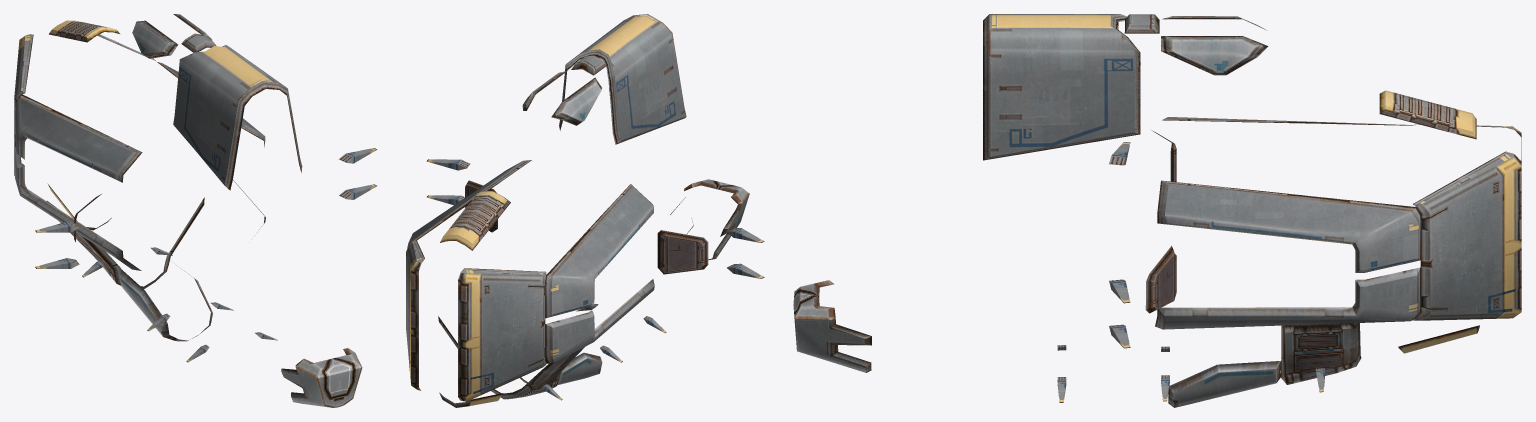
File: yao_assault_frigate_01_t3.glb
3 views of the same model, side by side, from view 1: azimuth 30°, elevation 25°; view 2: azimuth 150°, elevation 25°; view 3: azimuth 270°, elevation 25° (orthographic). The views are drawn at different scales.
Visible parts, largest first — view 1: yao_assault_frigate_01_t3_LOD0; view 2: yao_assault_frigate_01_t3_LOD0; view 3: yao_assault_frigate_01_t3_LOD0.
Part boxes in pixels (left/top/right/bottom): yao_assault_frigate_01_t3_LOD0: left=14, top=14, right=377, bottom=407; yao_assault_frigate_01_t3_LOD0: left=406, top=14, right=764, bottom=407; yao_assault_frigate_01_t3_LOD0: left=793, top=14, right=1521, bottom=407.
Size of what is drawn, in the model's own units: 1.71 by 1.51 by 2.55.
1 material, 1 textured.
